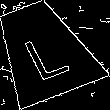L_NW: (15, 21, 71, 80)
